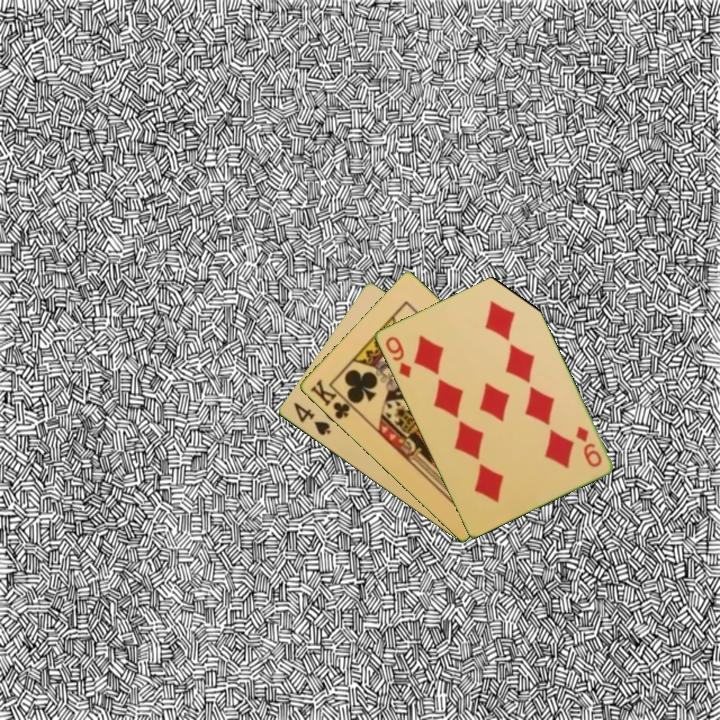4s: (289, 399, 333, 438)
9d: (381, 332, 414, 381), (572, 422, 604, 470)
Kc: (306, 376, 358, 422)
